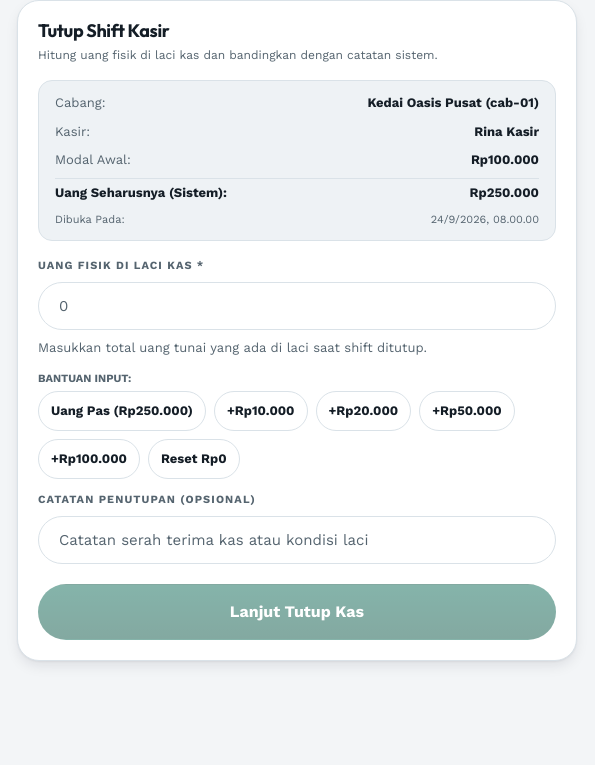
Scenario: Komponen TutupKas (T7-02) › tombol Uang Pas mengisi nilai sesuai uang seharusnya
What coordinates should you click on to do the following:
click the button "Uang Pas (Rp250.000)"
I would click on:
 (122, 411)
Its box is [38, 391, 206, 431].
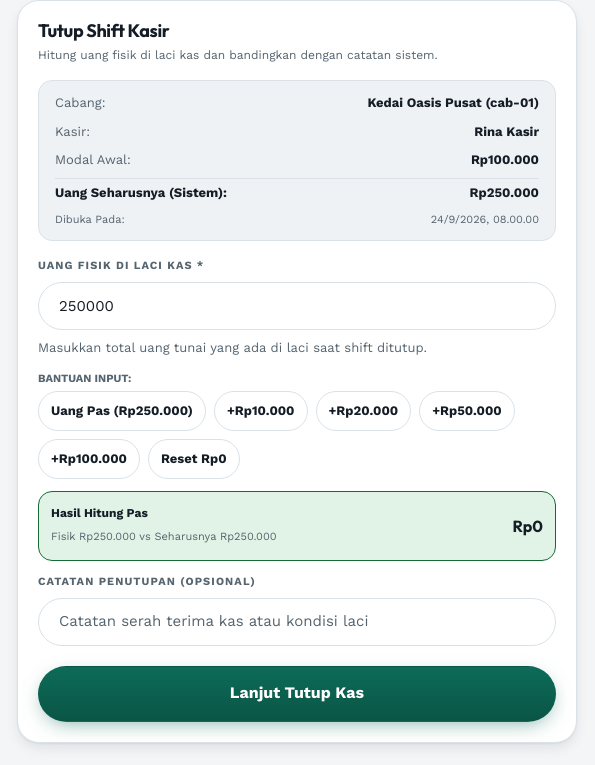
Expected: the number field labelled "Uang Fisik di Laci Kas *" holds "250000", [38, 282, 556, 330]
Expected: the text "Hasil Hitung Pas" is shown, [51, 506, 148, 520]
